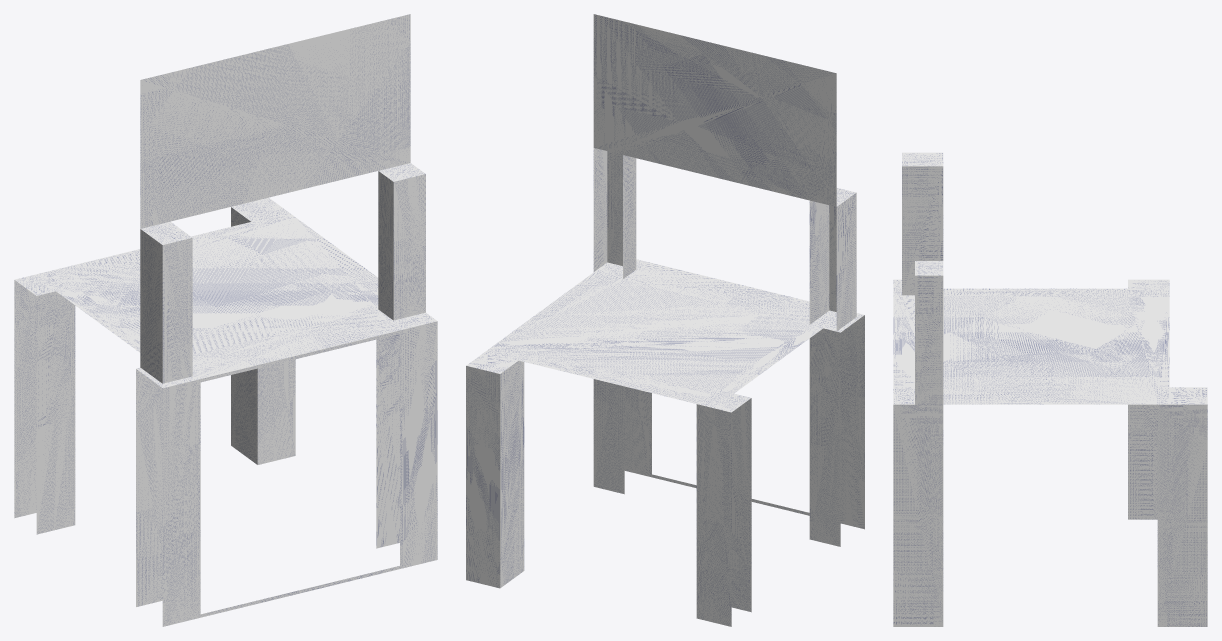
3 views of the same model, side by side, from view 1: azimuth 30°, elevation 25°; view 2: azimuth 150°, elevation 25°; view 3: azimuth 270°, elevation 25° (orthographic). The views are drawn at different scales.
Parts seen in each view (by area): view 1: SketchUp_ID2; view 2: SketchUp_ID2; view 3: SketchUp_ID2.
Part boxes in pixels (x1=…): SketchUp_ID2: x1=14, y1=14, x2=437, y2=626; SketchUp_ID2: x1=466, y1=14, x2=864, y2=626; SketchUp_ID2: x1=893, y1=152, x2=1207, y2=626.
Size of the model in its own units: 0.3028 by 0.5536 by 0.3221.
